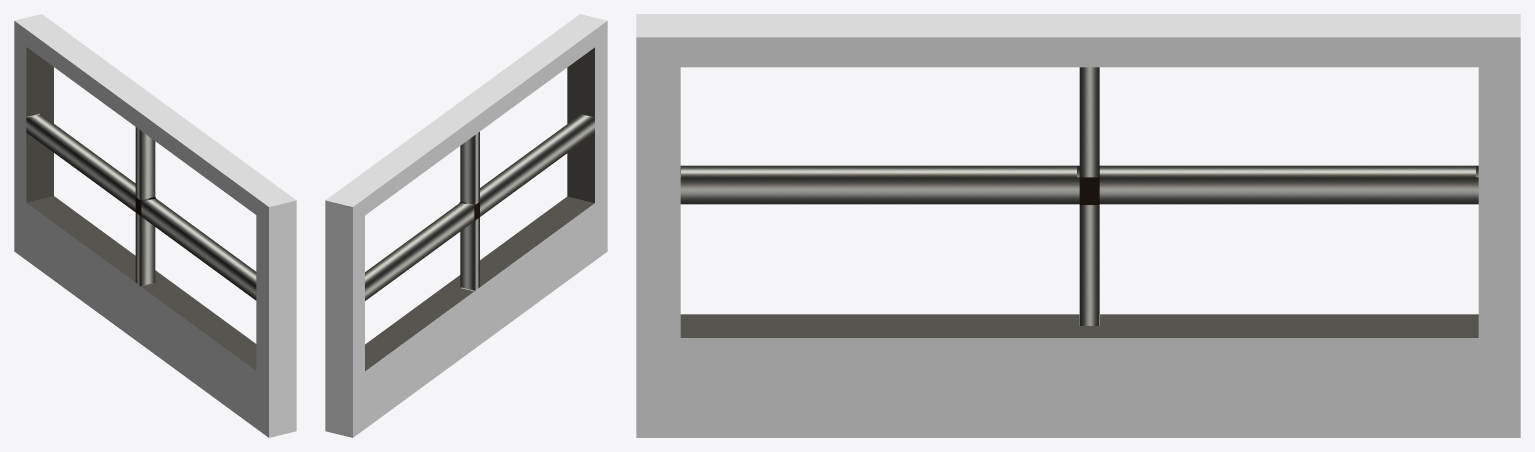
The model's file is Wall with window.fbx.
3 views of the same model, side by side, from view 1: azimuth 30°, elevation 25°; view 2: azimuth 150°, elevation 25°; view 3: azimuth 270°, elevation 25° (orthographic). The views are drawn at different scales.
Visible parts, largest first — view 1: Cube; view 2: Cube; view 3: Cube.
Boxes of the visible parts, left/top/right/bottom form: Cube: left=14, top=14, right=296, bottom=437; Cube: left=325, top=14, right=607, bottom=437; Cube: left=636, top=14, right=1520, bottom=437.
Size of the model in its own units: 100 by 800 by 1600.
Materials: 1 (1 with a texture image).
